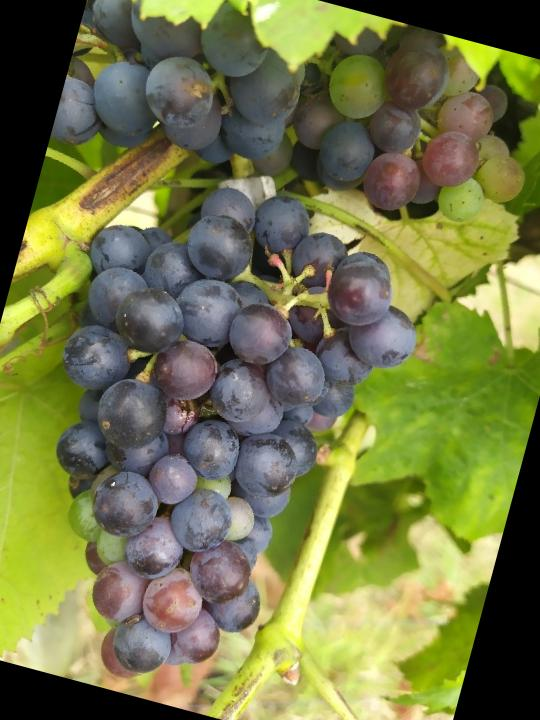grape: (0, 154, 446, 720)
